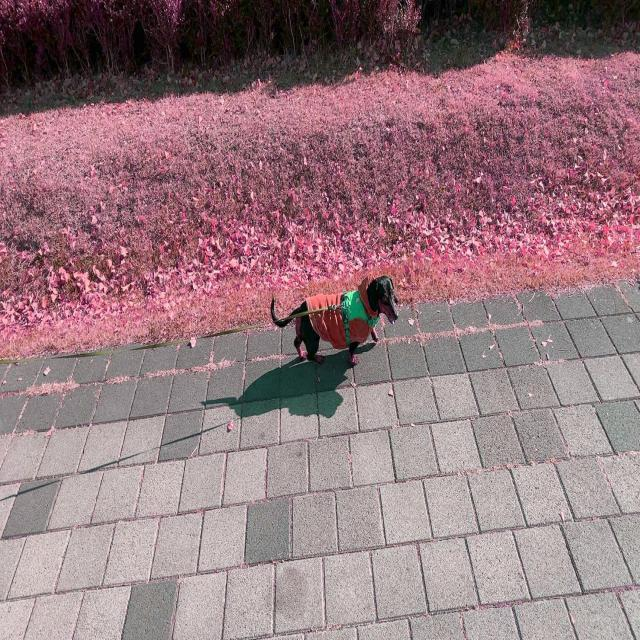Dog: (270, 272, 399, 367)
